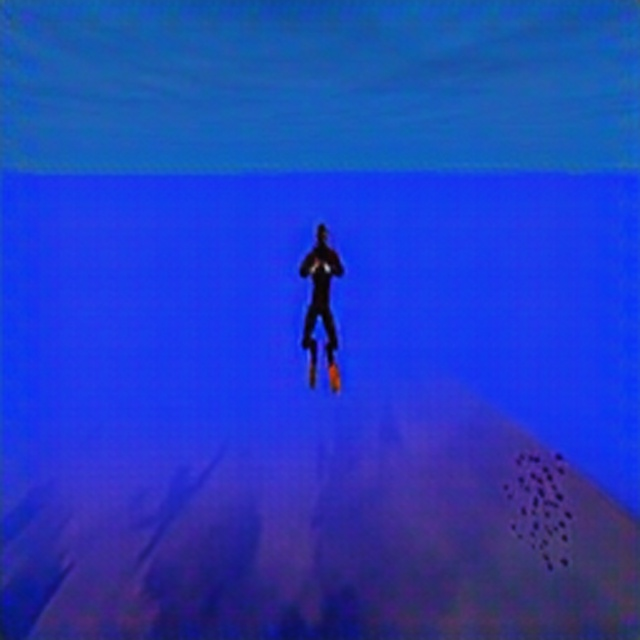diver: (296, 220, 347, 395)
